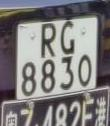0: (76, 53, 94, 93)
3: (58, 55, 77, 95)
8: (19, 56, 39, 104), (39, 56, 58, 98)
G: (58, 17, 79, 58)
R: (39, 19, 58, 62)
